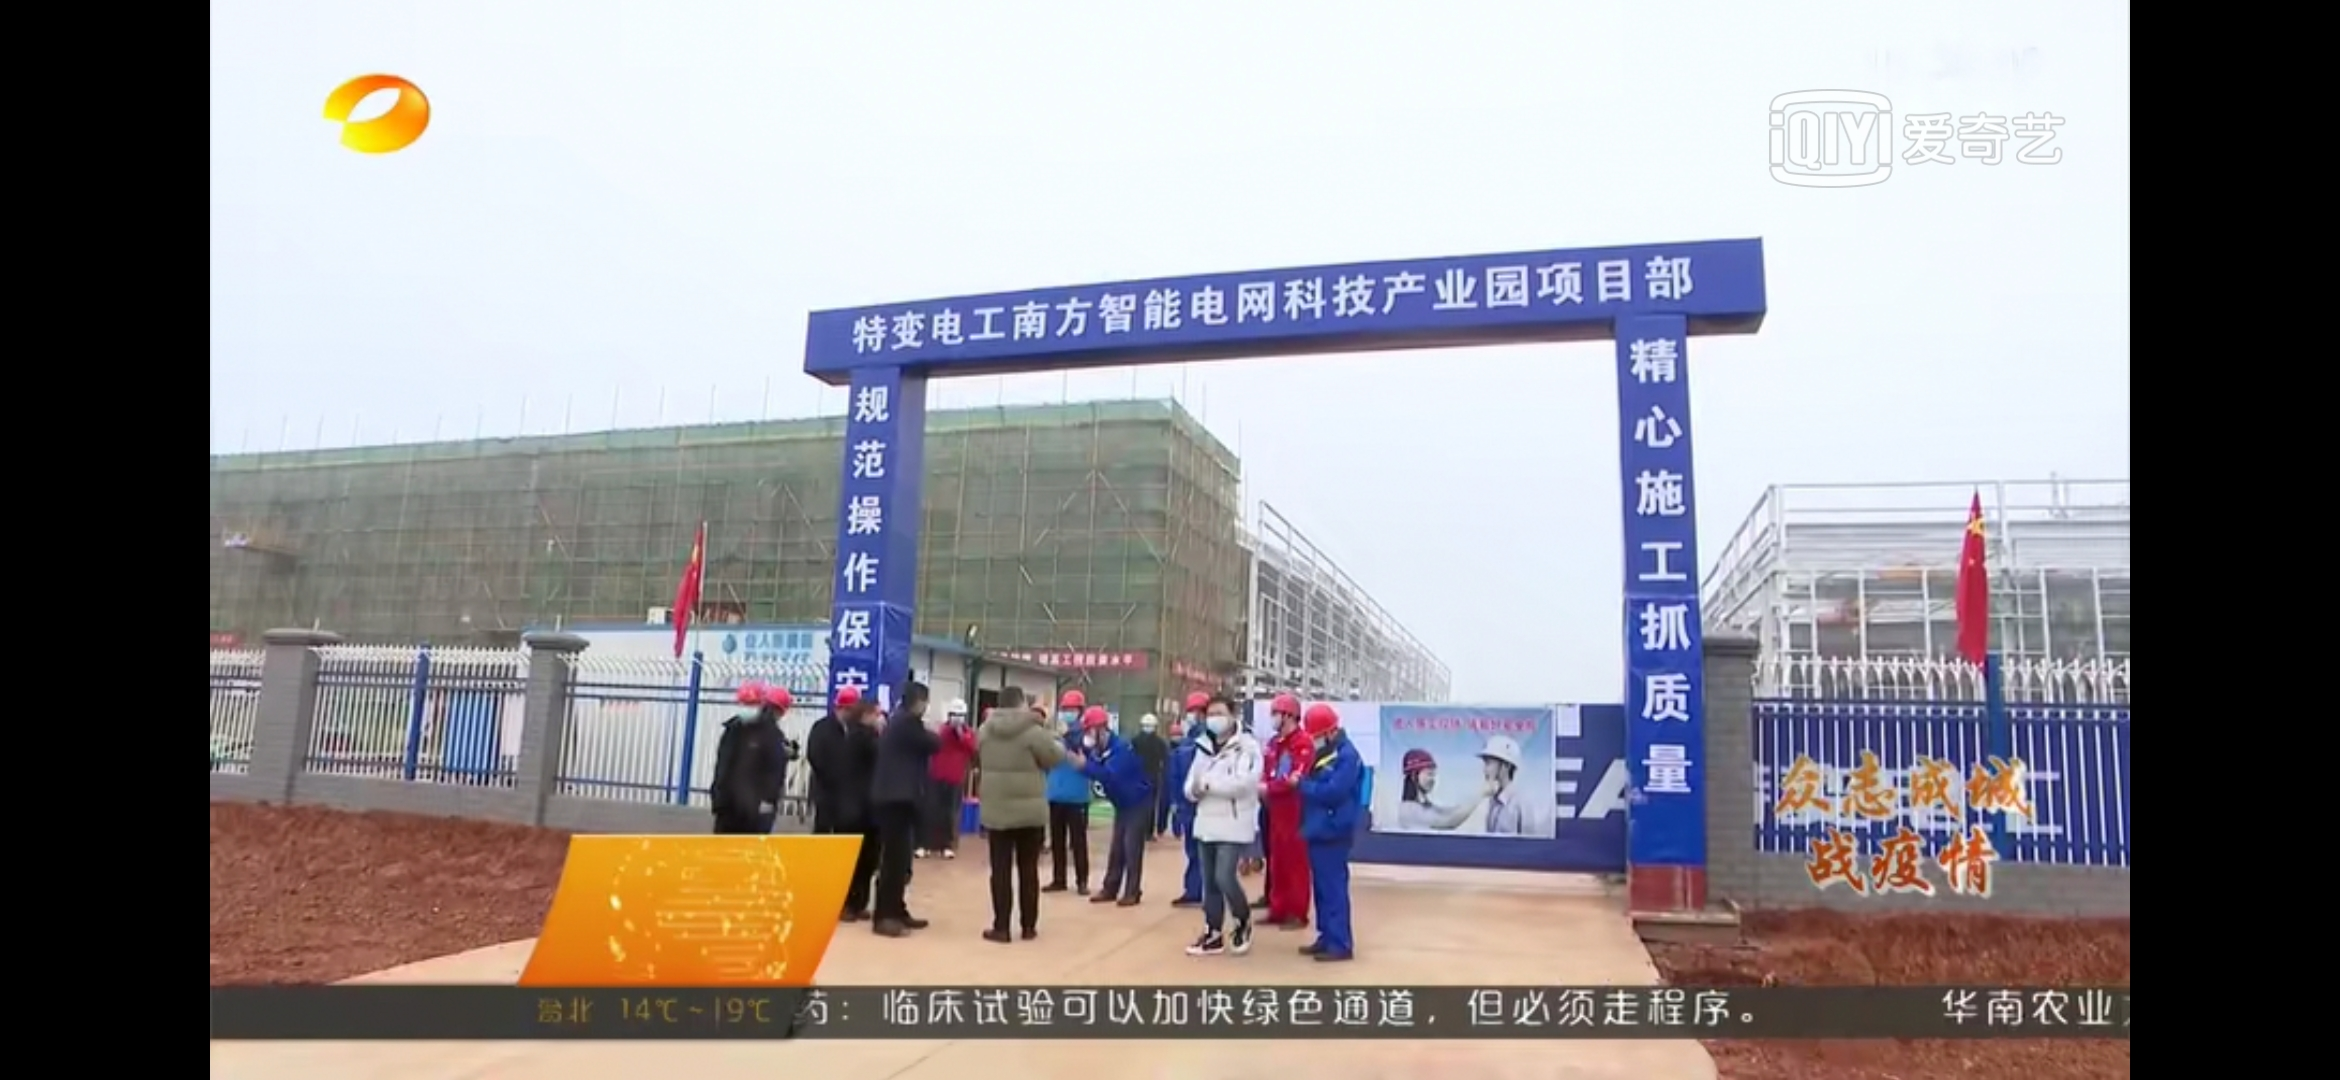correctlyWear: (1204, 706, 1233, 735), (737, 697, 760, 725), (1310, 720, 1330, 749), (1083, 728, 1104, 752), (1060, 706, 1082, 726), (1270, 706, 1288, 729), (949, 709, 967, 729), (1186, 709, 1204, 726)
